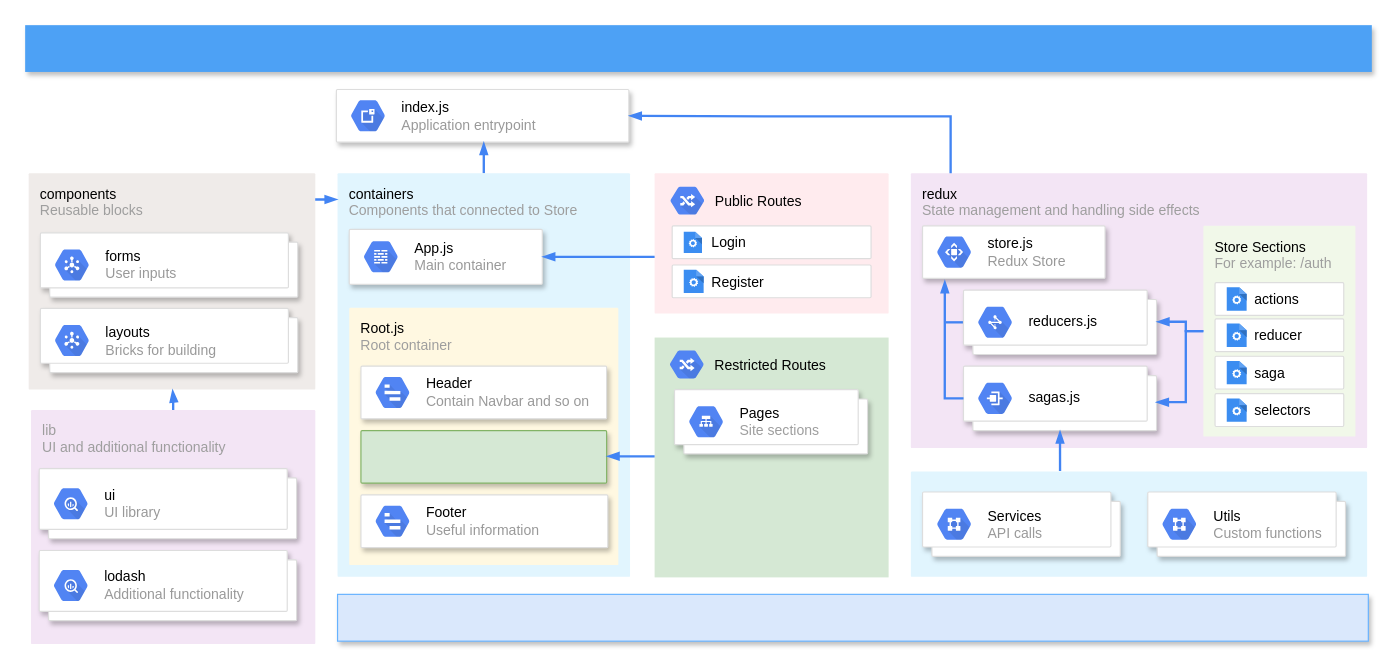
This 1398x669 diagram has some shape labels left out. The shapes that lost their labels are listed below. From the top down, each one's centre as x and y in pixels, then its label:
At (x=699, y=50): "Project structure".
At (x=853, y=619): "Constants: routes, themes, UI, menus, storages and so on".
